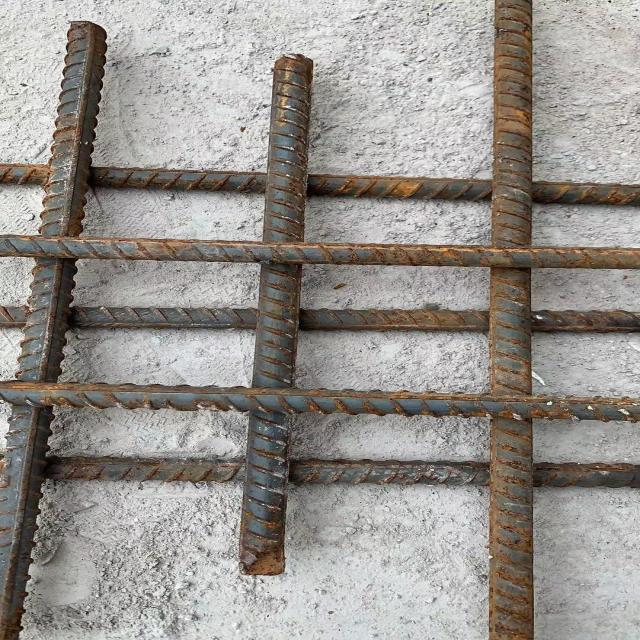ribbed bar: (0, 21, 114, 640), (233, 52, 317, 578), (481, 0, 535, 639), (0, 377, 639, 425), (0, 162, 639, 208), (0, 231, 639, 272), (46, 455, 639, 489), (0, 306, 639, 335)
